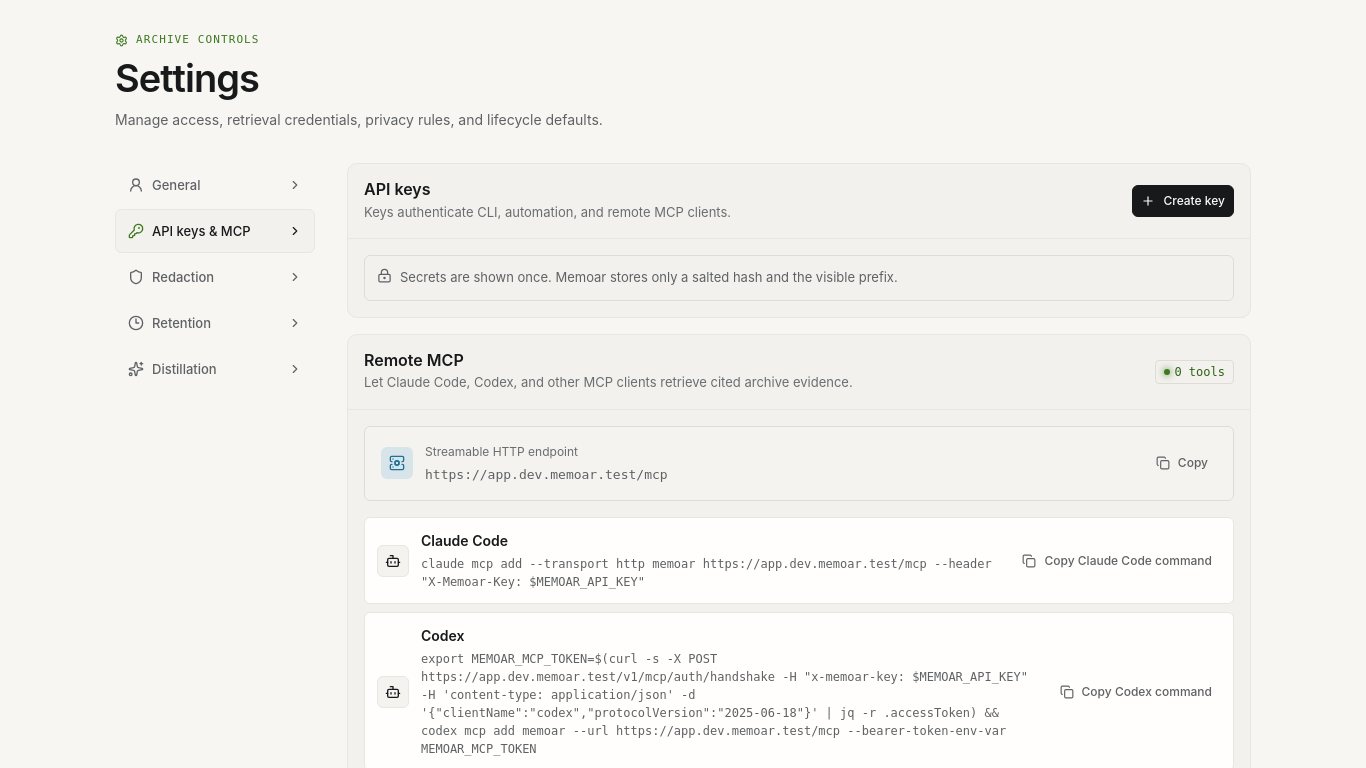
it: changing a password in Settings › is not offered to an account that signs in with a provider
Click the button "General" at (215, 185), box [115,163,315,207]
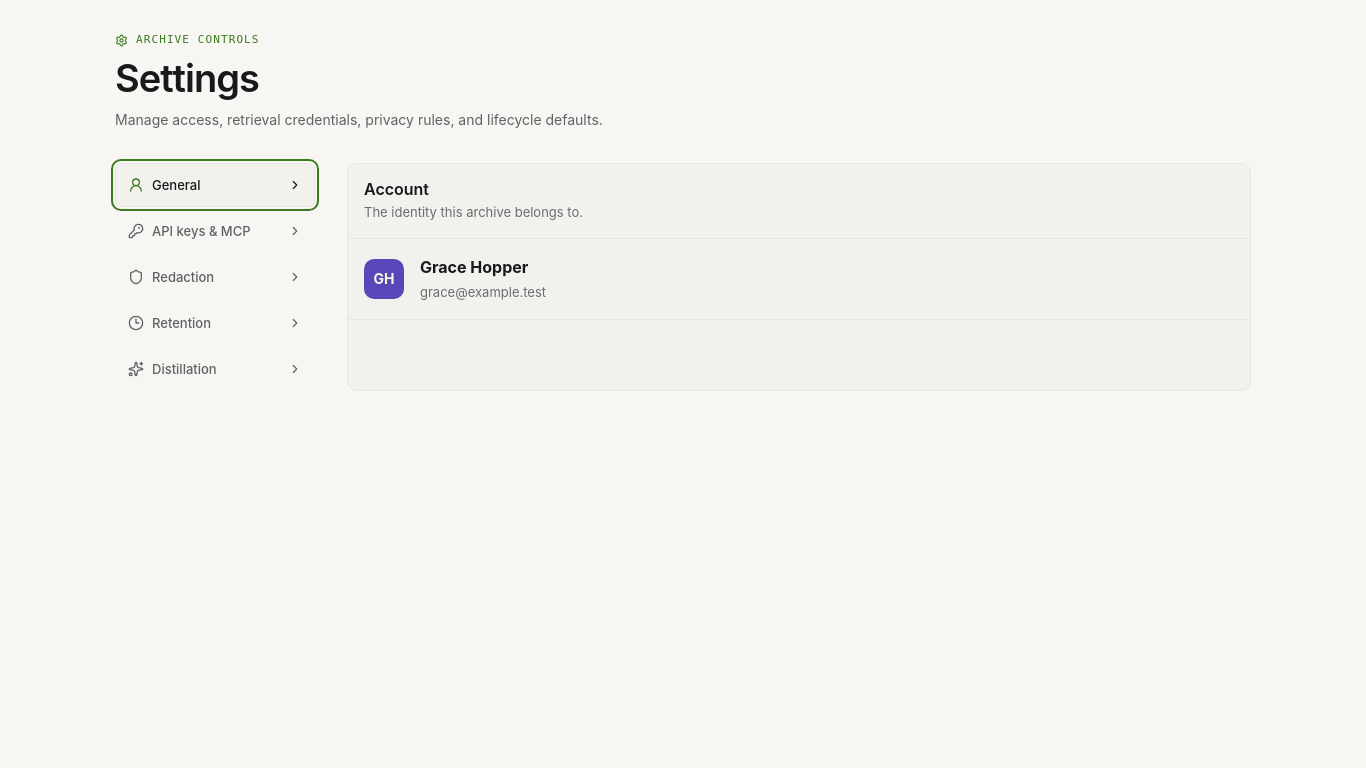
Check: the text "Grace Hopper" is shown, box [420,257,528,277]
